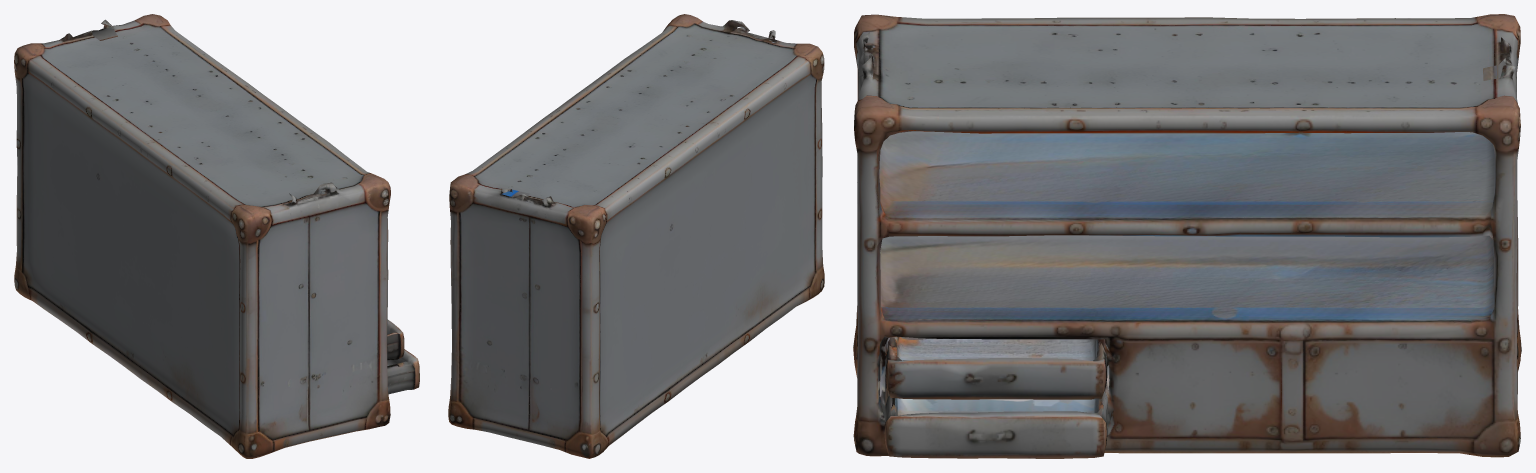
The model's file is MetalShelf.fbx.
The picture shows the model from 3 angles, left to right: view 1: azimuth 30°, elevation 25°; view 2: azimuth 150°, elevation 25°; view 3: azimuth 270°, elevation 25°; orthographic projection. The views are drawn at different scales.
Parts seen in each view (by area): view 1: tripo_node_9bbeb8b4; view 2: tripo_node_9bbeb8b4; view 3: tripo_node_9bbeb8b4.
Part boxes in pixels (x1=…): tripo_node_9bbeb8b4: x1=14, y1=14, x2=419, y2=458; tripo_node_9bbeb8b4: x1=448, y1=14, x2=824, y2=458; tripo_node_9bbeb8b4: x1=853, y1=14, x2=1521, y2=458.
Size of the model in its own units: 46.26 by 59.51 by 99.62.
1 material, 1 textured.
